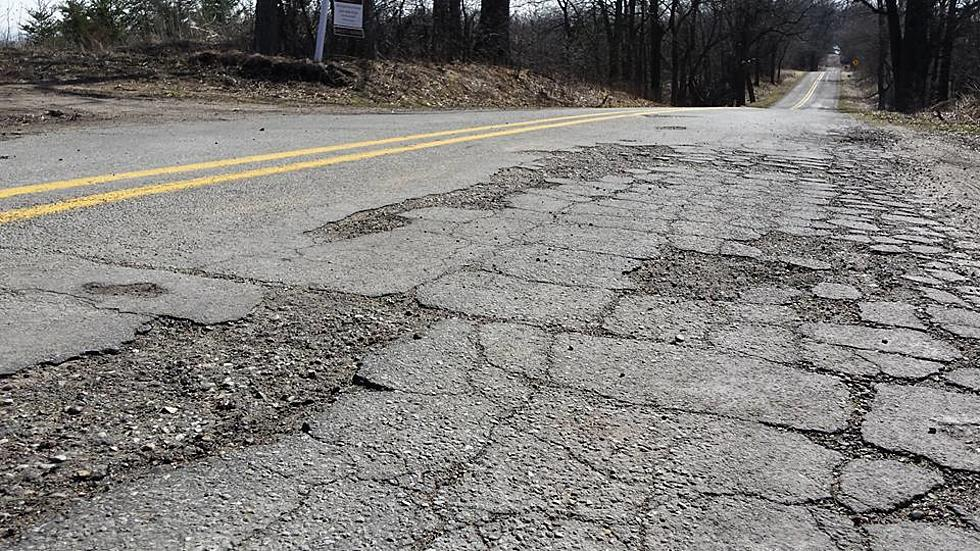pothole: (0, 276, 497, 509), (774, 108, 979, 548), (303, 126, 687, 248)
